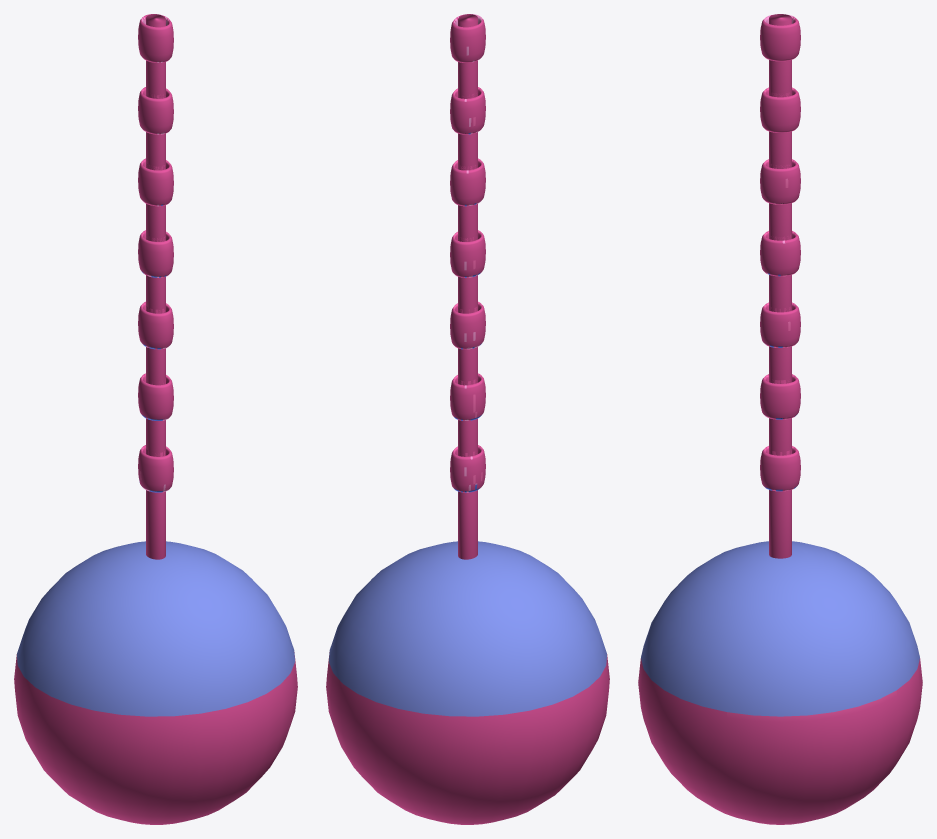
The model's file is obtsaculo bola.fbx.
The picture shows the model from 3 angles, left to right: view 1: azimuth 30°, elevation 25°; view 2: azimuth 150°, elevation 25°; view 3: azimuth 270°, elevation 25°; orthographic projection.
Parts seen in each view (by area): view 1: Sphere, Cylinder.006; view 2: Sphere, Cylinder.006; view 3: Sphere, Cylinder.006.
Part boxes in pixels (x1,y1,x2,y2): Sphere: (14,541,297,824); Cylinder.006: (138,14,173,559); Sphere: (326,541,609,824); Cylinder.006: (450,14,485,559); Sphere: (638,541,922,824); Cylinder.006: (760,14,800,558).
Size of the model in its own units: 400 by 1231 by 400.
2 materials, 2 textured.
